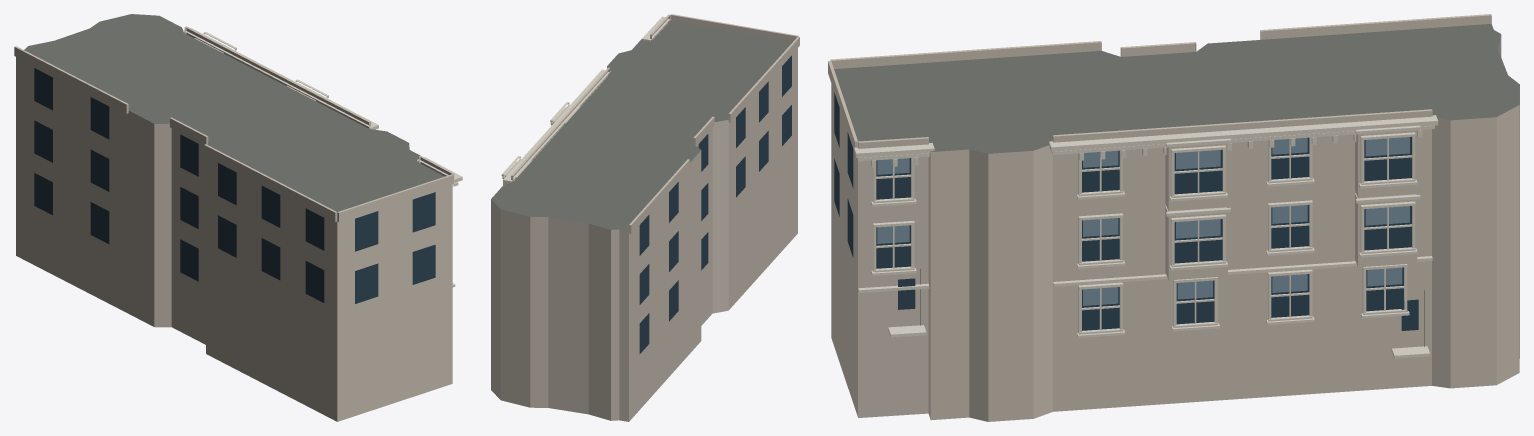
3 views of the same model, side by side, from view 1: azimuth 30°, elevation 25°; view 2: azimuth 150°, elevation 25°; view 3: azimuth 270°, elevation 25° (orthographic). The views are drawn at different scales.
Parts seen in each view (by area): view 1: Footprint 0 / surface 2, Footprint 0 / surface 1, Inset glazing, Facade bay volumes, Cornices and window frames; view 2: Footprint 0 / surface 2, Footprint 0 / surface 1, Inset glazing, Facade bay volumes, Cornices and window frames; view 3: Footprint 0 / surface 2, Footprint 0 / surface 1, Cornices and window frames, Inset glazing, Facade bay volumes, Sky reflection panels.
Part boxes in pixels (x1,y1,x2,y2): Footprint 0 / surface 2: (16, 57, 452, 421); Footprint 0 / surface 1: (24, 14, 444, 211); Inset glazing: (34, 68, 435, 303); Facade bay volumes: (14, 26, 454, 221); Cornices and window frames: (183, 28, 462, 287); Footprint 0 / surface 2: (491, 48, 797, 421); Footprint 0 / surface 1: (491, 21, 792, 230); Inset glazing: (639, 55, 791, 354); Facade bay volumes: (505, 14, 799, 233); Cornices and window frames: (501, 16, 670, 185); Footprint 0 / surface 2: (831, 34, 1519, 421); Footprint 0 / surface 1: (834, 24, 1519, 153); Cornices and window frames: (854, 115, 1438, 358); Inset glazing: (834, 92, 1418, 330); Facade bay volumes: (828, 14, 1491, 280); Sky reflection panels: (877, 137, 1409, 305).
Size of the model in its own units: 11.81 by 11.4 by 25.85.
